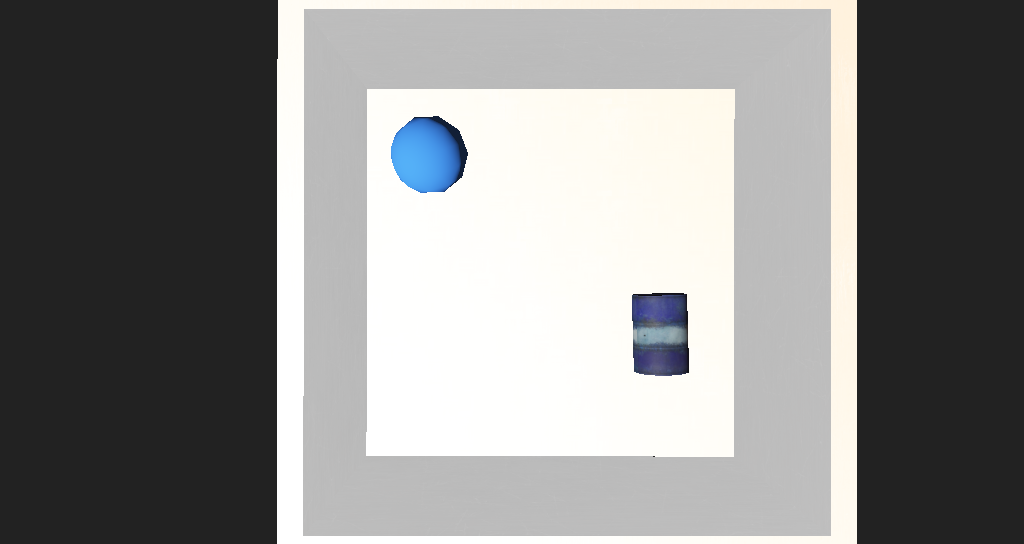cone: (566, 282, 620, 329)
cylinder: (310, 0, 701, 286)
sphere: (371, 177, 438, 224)
